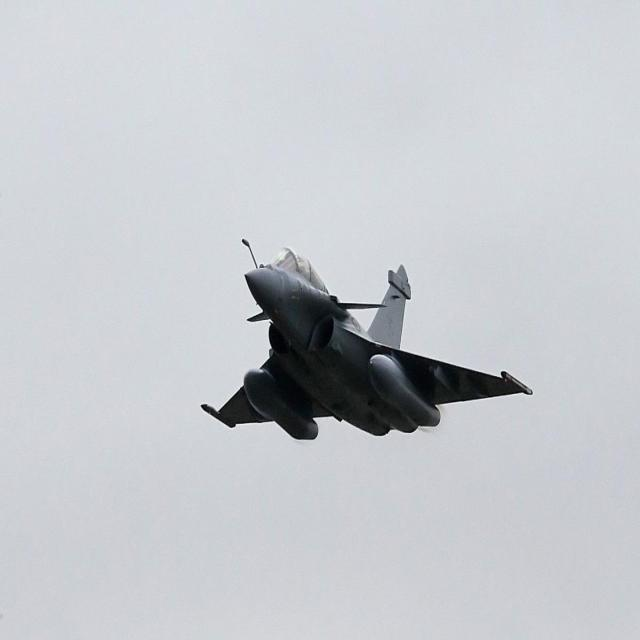MIL_Plane: (200, 239, 533, 440)
